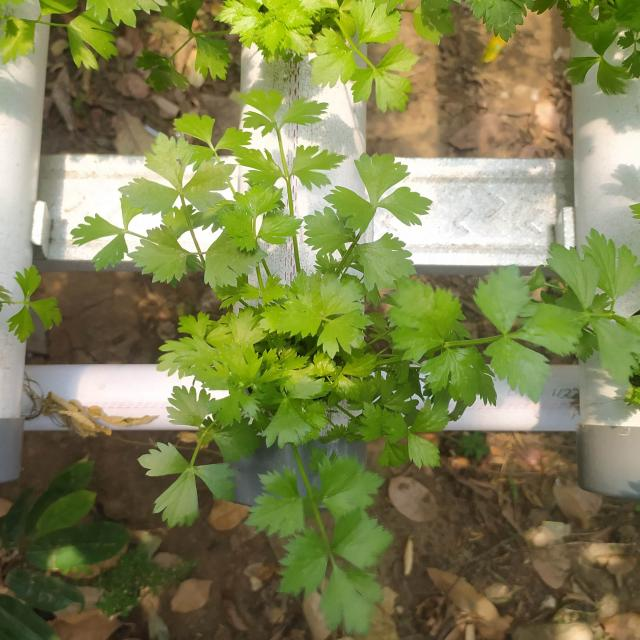Wet Waste: (143, 13, 605, 535)
